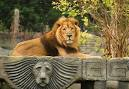lion: (13, 18, 93, 58)
